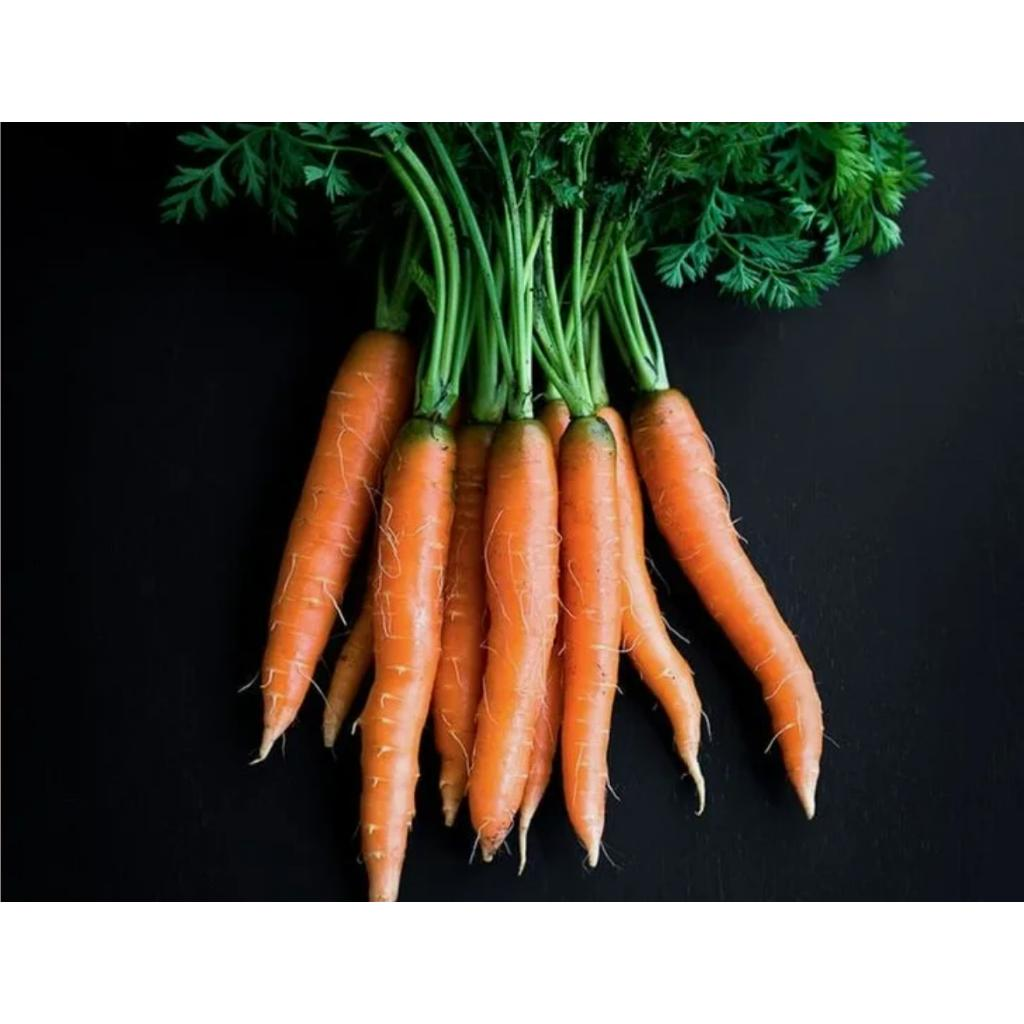carrot: (632, 388, 824, 817), (256, 330, 416, 762), (360, 418, 456, 900), (598, 406, 706, 813), (468, 418, 558, 862), (558, 416, 622, 866), (432, 424, 496, 825), (518, 628, 564, 873), (322, 592, 374, 748)
